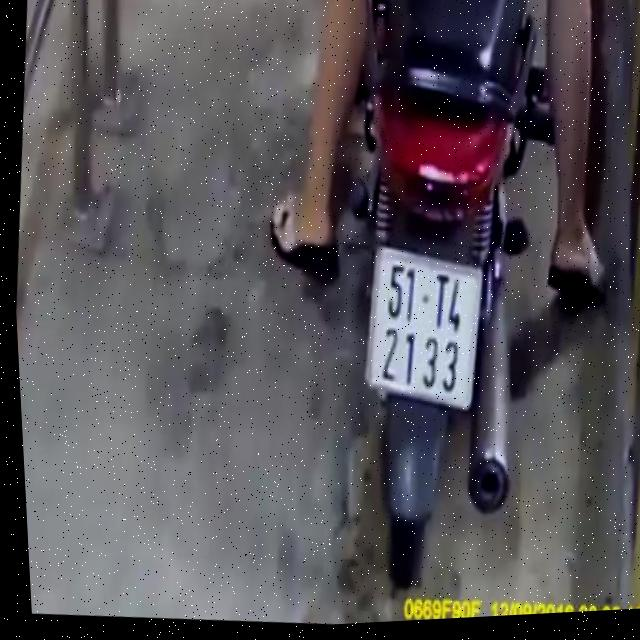motorcycle: (299, 0, 579, 605)
plate: (349, 235, 502, 418)
